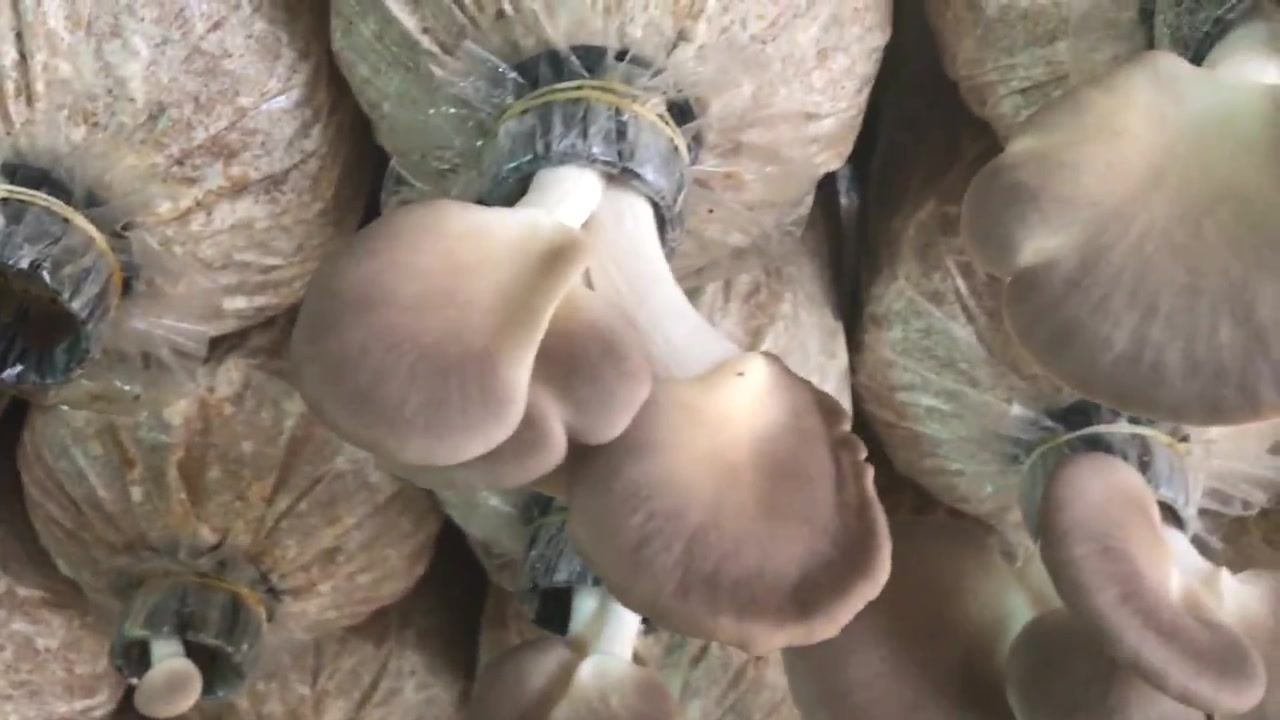nam: (292, 93, 892, 653), (782, 430, 1280, 718), (959, 1, 1279, 424), (470, 528, 685, 720), (110, 580, 258, 715)
